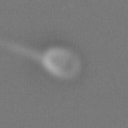normal: (1, 37, 42, 63)
